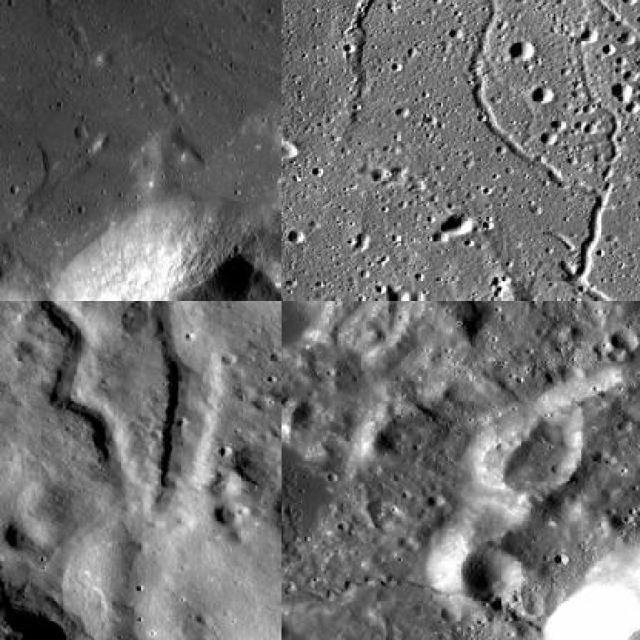rille: (355, 0, 638, 298), (467, 0, 638, 298), (282, 300, 436, 602), (0, 300, 158, 529), (128, 300, 223, 638), (45, 0, 280, 123), (574, 37, 621, 183), (291, 0, 383, 74)
